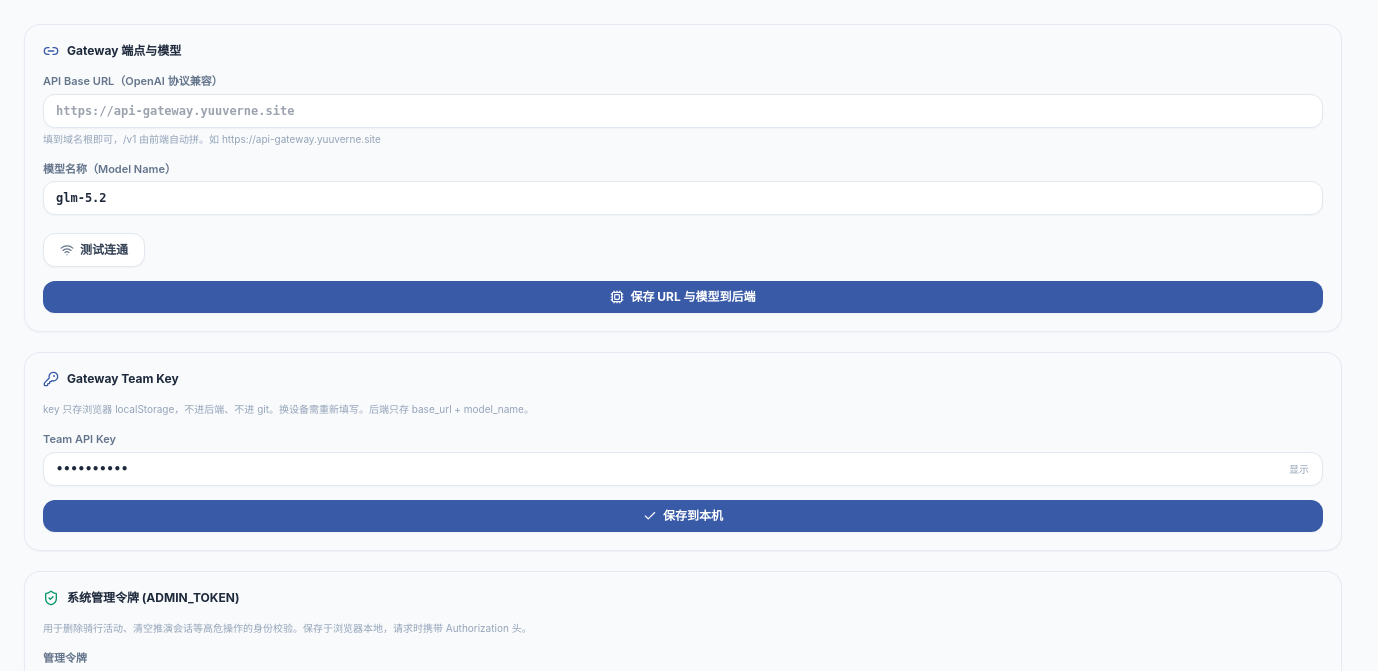
Test: AIGatewayConfigTab AI 接入配置 › 可用模型芯片可点击切换 model_name
The width and height of the screenshot is (1378, 671).
Click the button "测试连通": (94,250) [43,233,145,267]
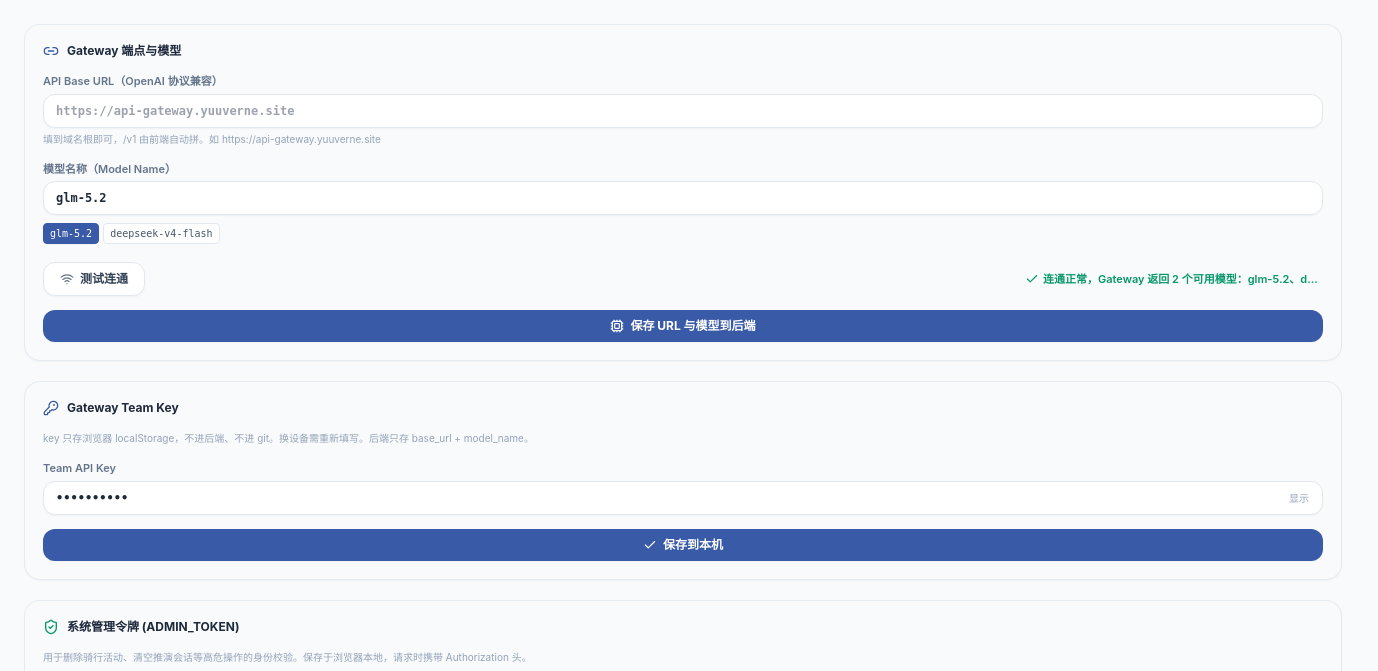
Click the button "deepseek-v4-flash": (161,234) [103,223,220,244]
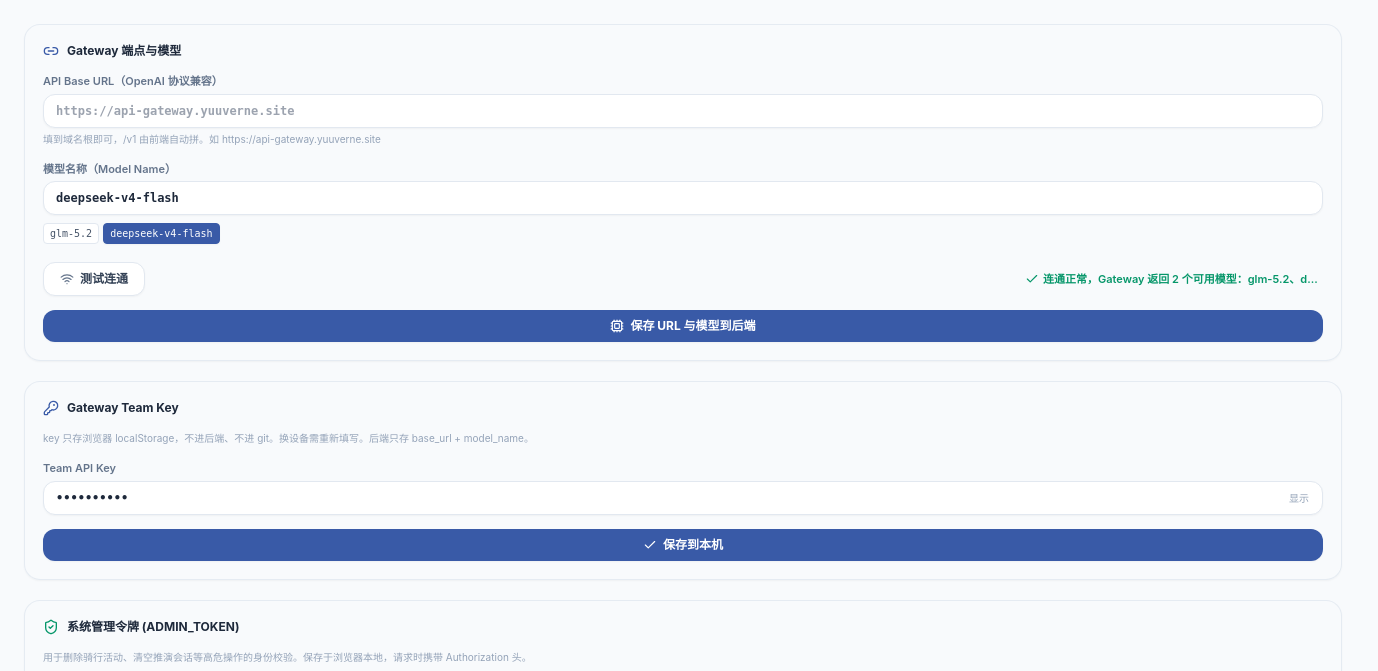
Check: the field showing "deepseek-v4-flash" below "模型名称（Model Name）" is shown, box [43,181,1323,215]
